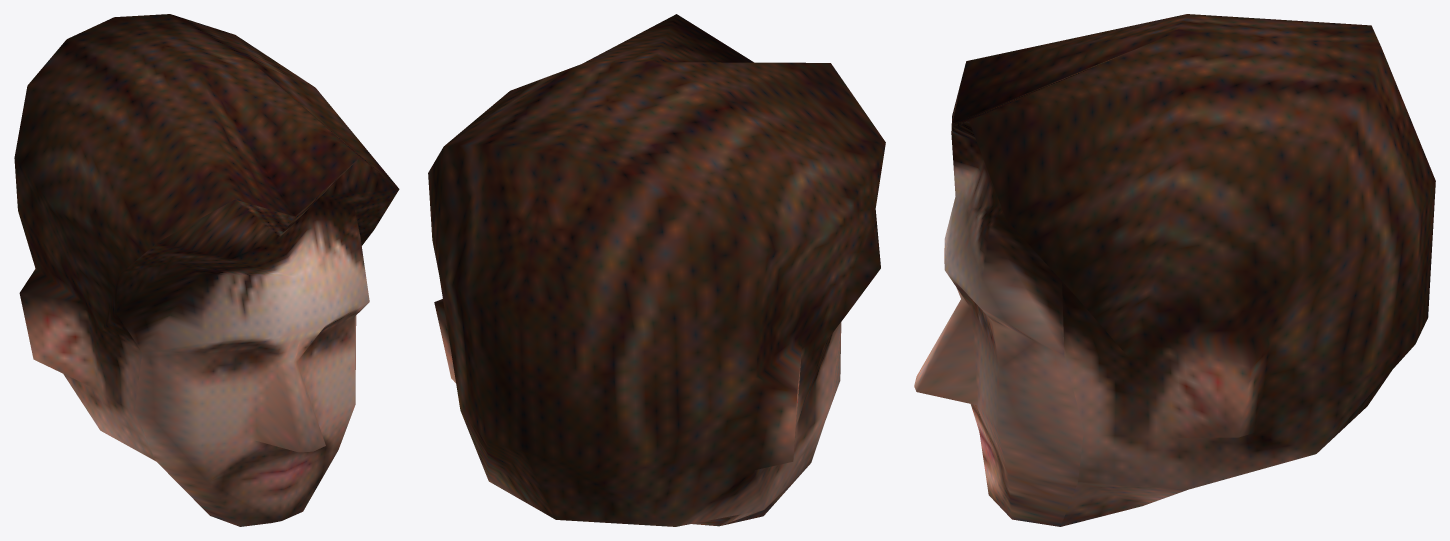
File: man_head.obj
3 views of the same model, side by side, from view 1: azimuth 30°, elevation 25°; view 2: azimuth 150°, elevation 25°; view 3: azimuth 270°, elevation 25° (orthographic). The views are drawn at different scales.
Parts seen in each view (by area): view 1: male_player.001; view 2: male_player.001; view 3: male_player.001.
Boxes of the visible parts, left/top/right/bottom form: male_player.001: left=14, top=14, right=399, bottom=526; male_player.001: left=428, top=14, right=885, bottom=526; male_player.001: left=914, top=14, right=1435, bottom=526.
Size of the model in its own units: 0.1917 by 0.2492 by 0.2457.
1 material, 1 textured.
